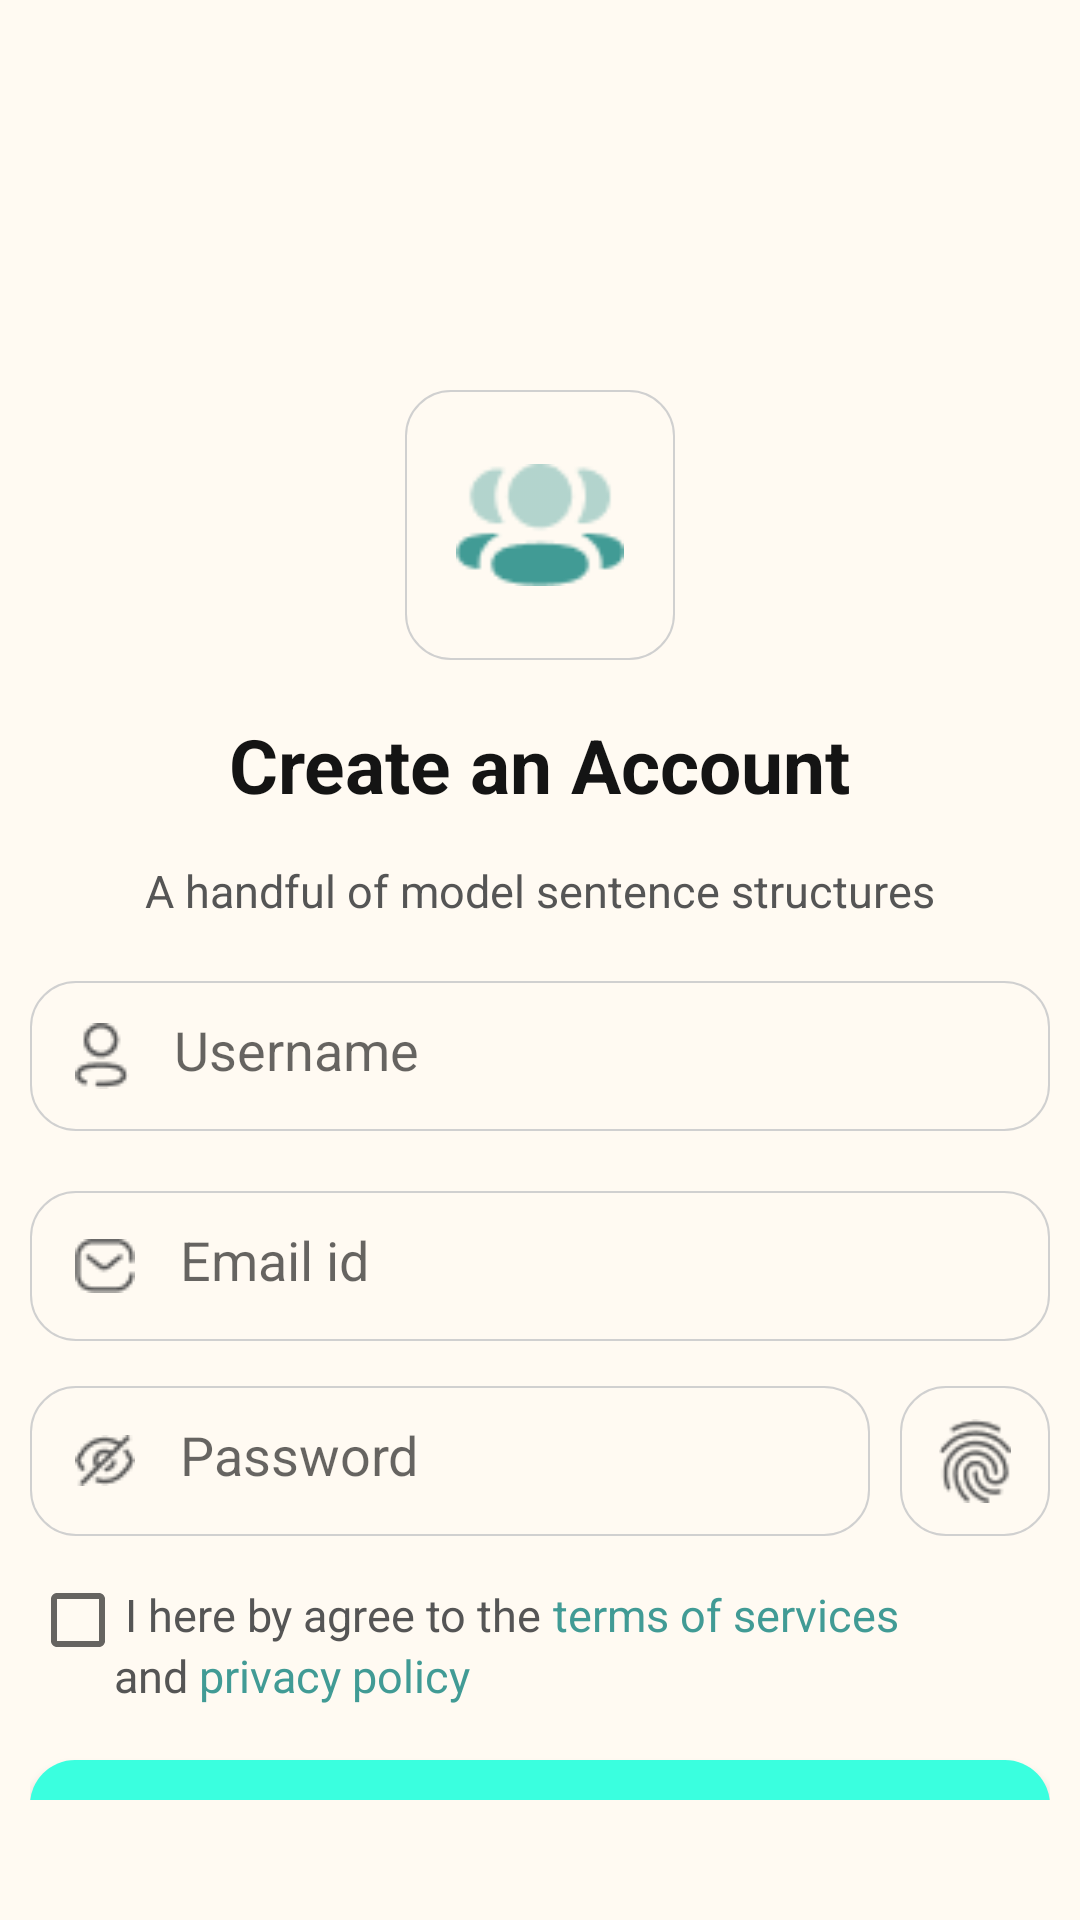

Icon bounding boxes for this 1080px×1920px phone screenshot, format [left=x1, top=y1, right=x2, bottom=y2]:
fingerprent: [left=900, top=1386, right=1050, bottom=1536]
signupicon: [left=405, top=390, right=675, bottom=660]
